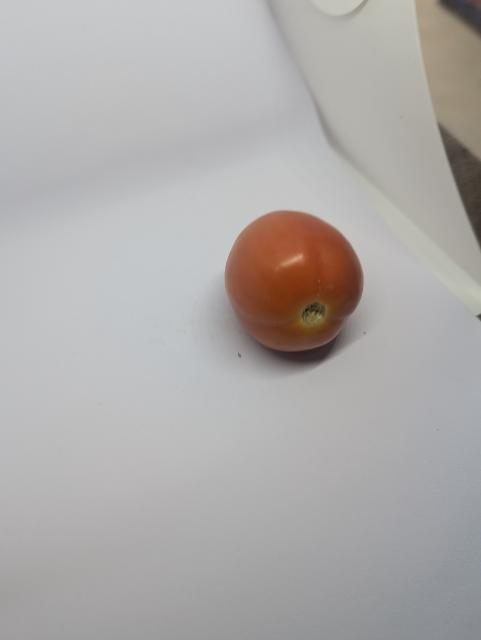red: (219, 201, 381, 375)
